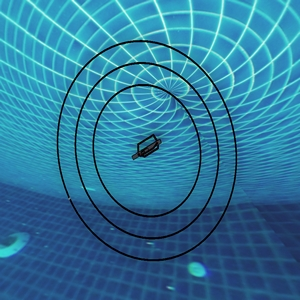submarine: (134, 134, 163, 162)
